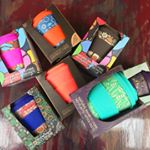cups: (7, 92, 51, 137), (85, 23, 123, 66), (31, 8, 66, 50)
